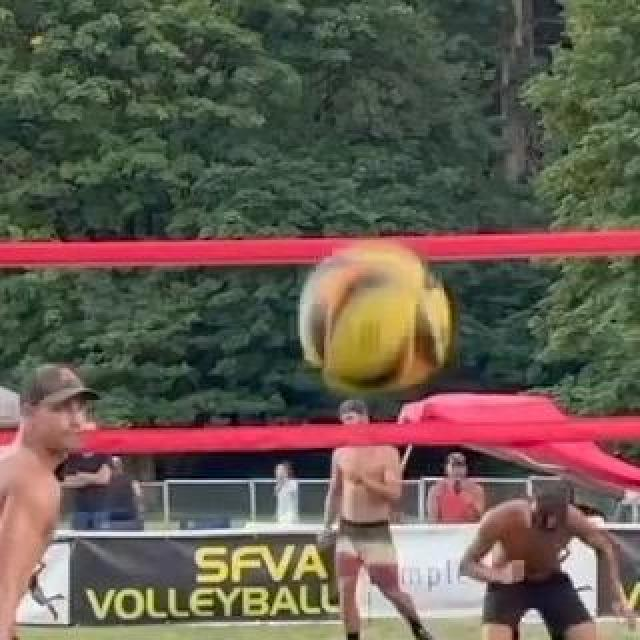volleyball: (298, 242, 454, 390)
